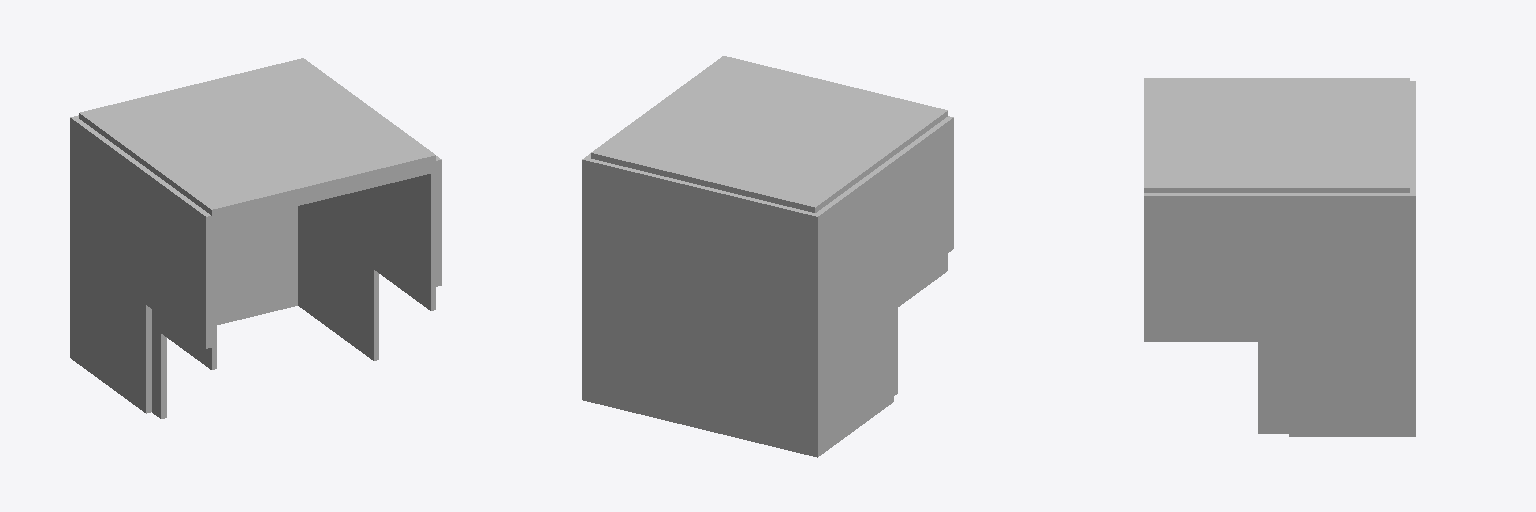
The model's file is hair1.obj.
3 renders of one model, left to right at view 1: azimuth 30°, elevation 25°; view 2: azimuth 150°, elevation 25°; view 3: azimuth 270°, elevation 25°, orthographic.
Parts seen in each view (by area): view 1: object 1; view 2: object 1; view 3: object 1.
Part boxes in pixels (x1,y1,x2,y2): object 1: (70,58,441,418); object 1: (582,56,953,457); object 1: (1144,78,1415,436).
Bounding box in the file's own units: 4.3 × 4.3 × 4.3.